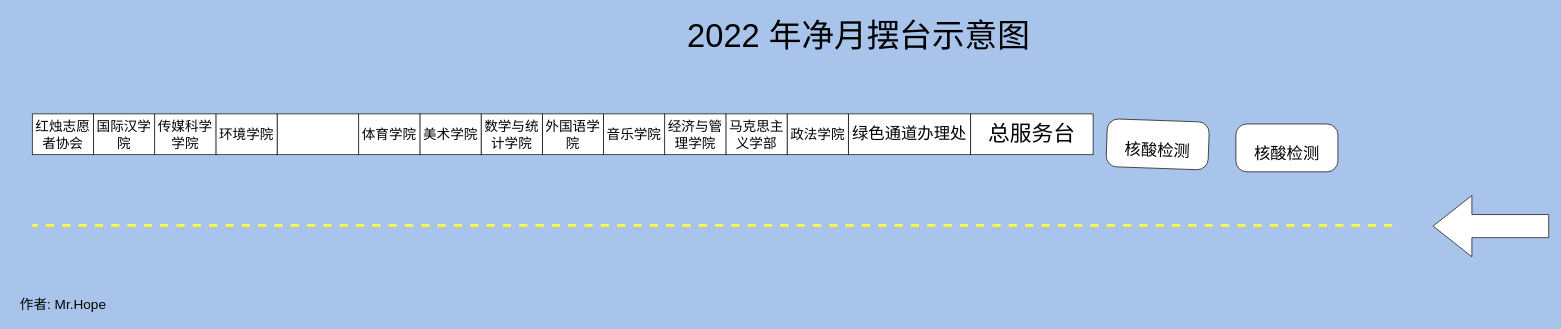
The diagram is 1561 pixels wide and 329 high, and some of its shapes have lost their labels. Each missing label, with the centre of its shape:
"信息科学与技术学院" goes at pixel 317 134.
"入 校 通 道" goes at pixel 1490 226.
